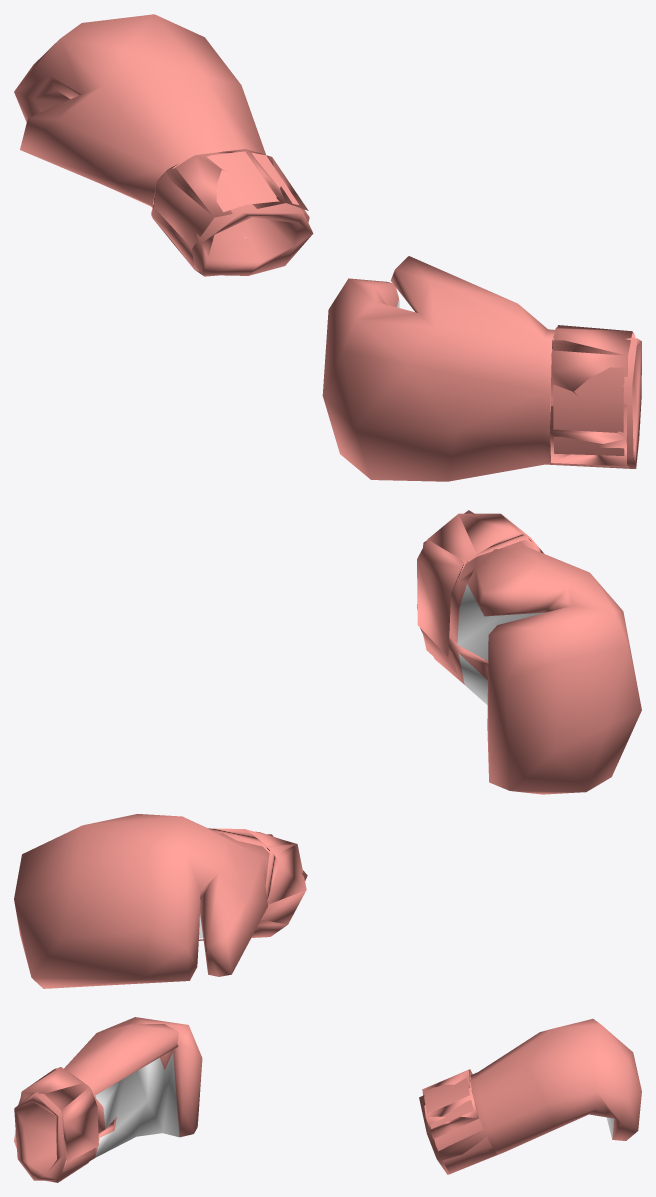
Rendered from boxinggloves. 460p.fbx.
3 views of the same model, one above another, from view 1: azimuth 30°, elevation 25°; view 2: azimuth 150°, elevation 25°; view 3: azimuth 270°, elevation 25° (orthographic). The views are drawn at different scales.
Visible parts, largest first — view 1: Box02_2; view 2: Box02_2; view 3: Box02_2.
Part boxes in pixels (box(x1,y1,x2,y2)): Box02_2: box(14, 14, 641, 481); Box02_2: box(14, 510, 641, 988); Box02_2: box(14, 1017, 641, 1182).
Bounding box in the file's own units: 17.36 × 12.36 × 57.25.
